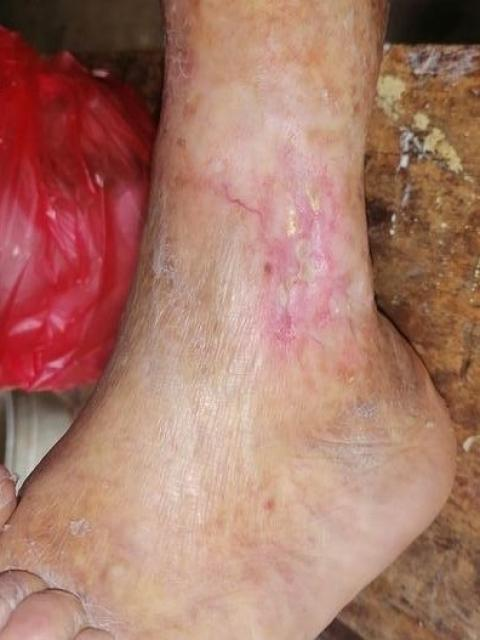wound: (277, 169, 332, 341), (286, 192, 306, 238)
